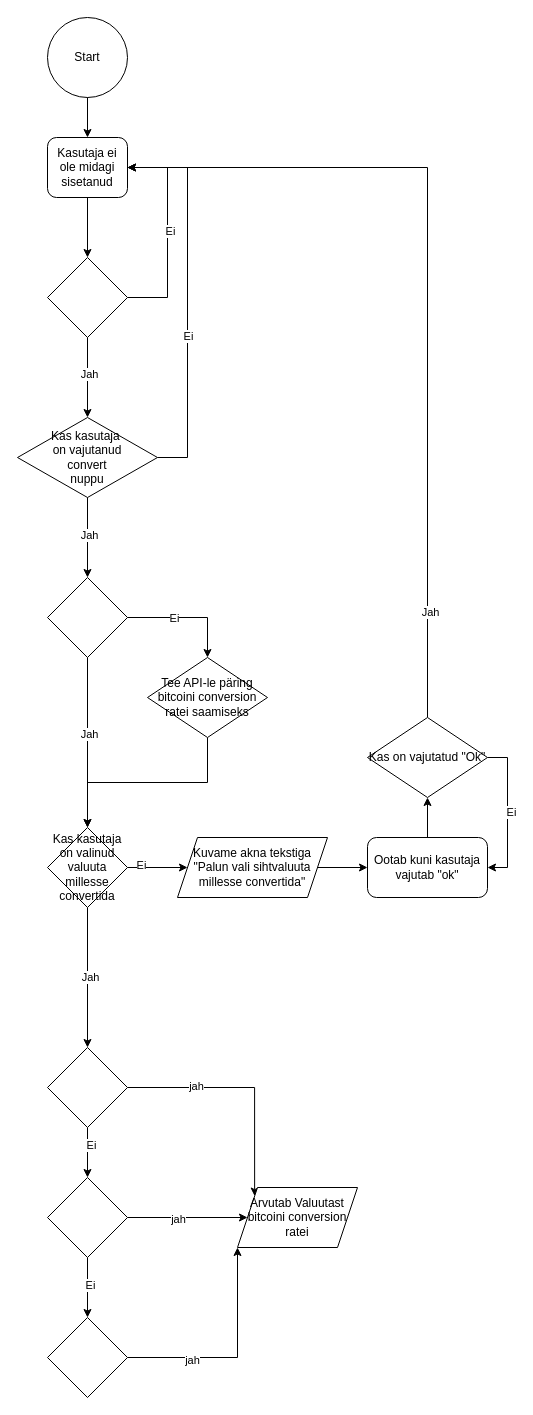
This 533x1415 diagram has some shape labels left out. Each missing label, with the centre of its shape:
kas API-st on andmed saadud: the point at 87,617
Kas kasutaja on sisteanud bitcoini arvu?: the point at 87,297
Kas kasutaja valis EEK: the point at 87,1357
Kas Kasutaja valis GBP: the point at 87,1087
Kas kasutaja valis USD: the point at 87,1217
